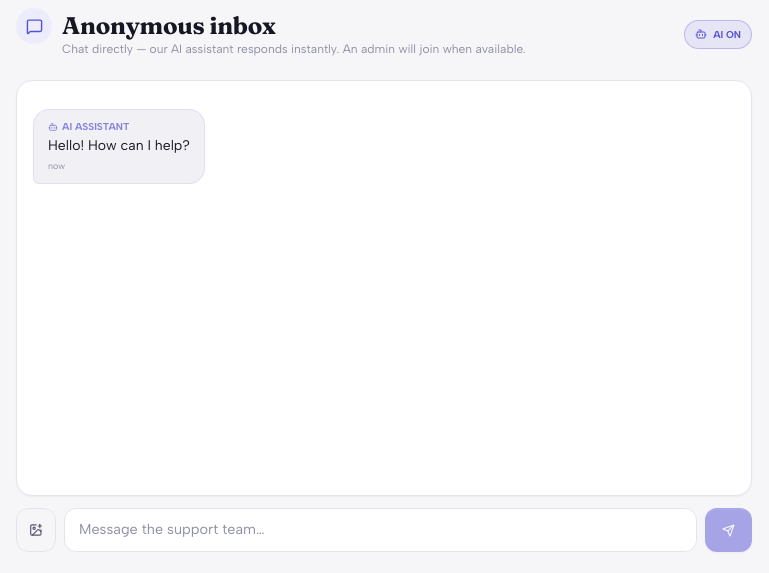
it: UserChat � duplicate prevention › renders the confirmed server message exactly once after send
expect the text "Hello! How can I help?" is shown: met, box [48, 136, 190, 156]
Type "I need help" into the field named "Chat message" at (380, 530), box [64, 508, 697, 552]
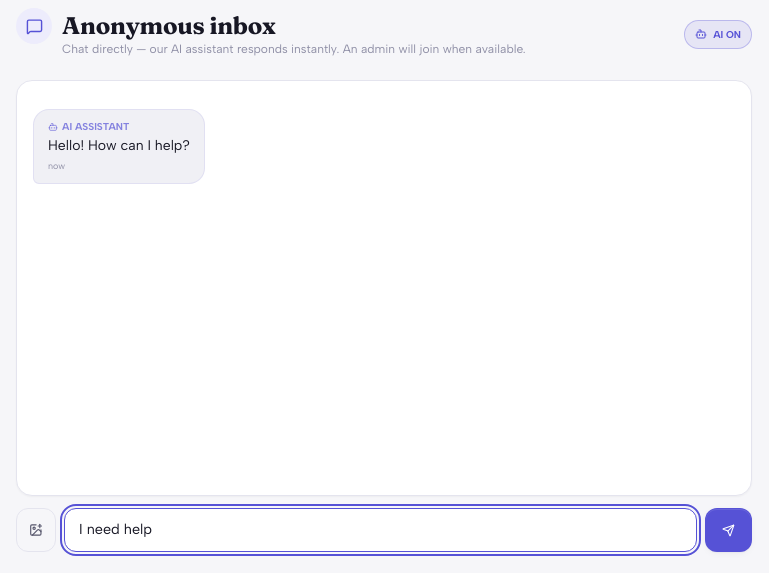
Click the button named "send" at (729, 530), box [705, 508, 752, 552]
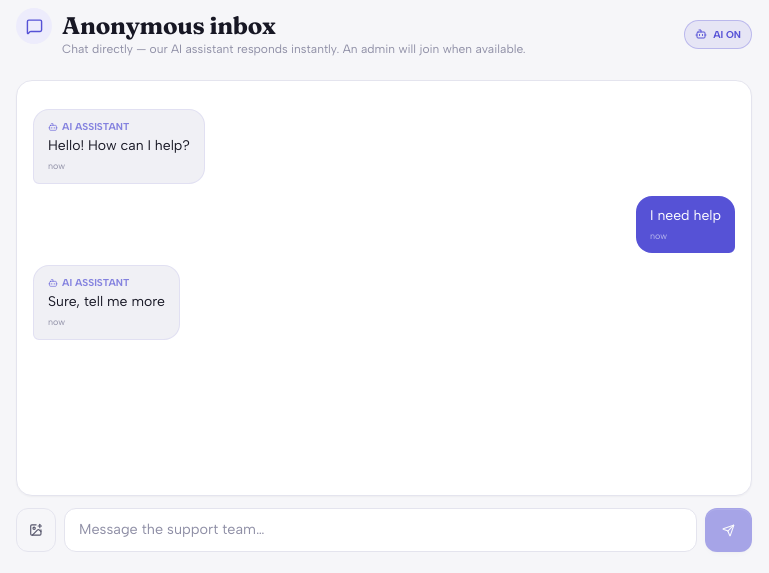
expect the text "Sure, tell me more" is shown: met, box [48, 292, 165, 312]
expect the text "I need help" is shown once: met, box [650, 206, 721, 226]
